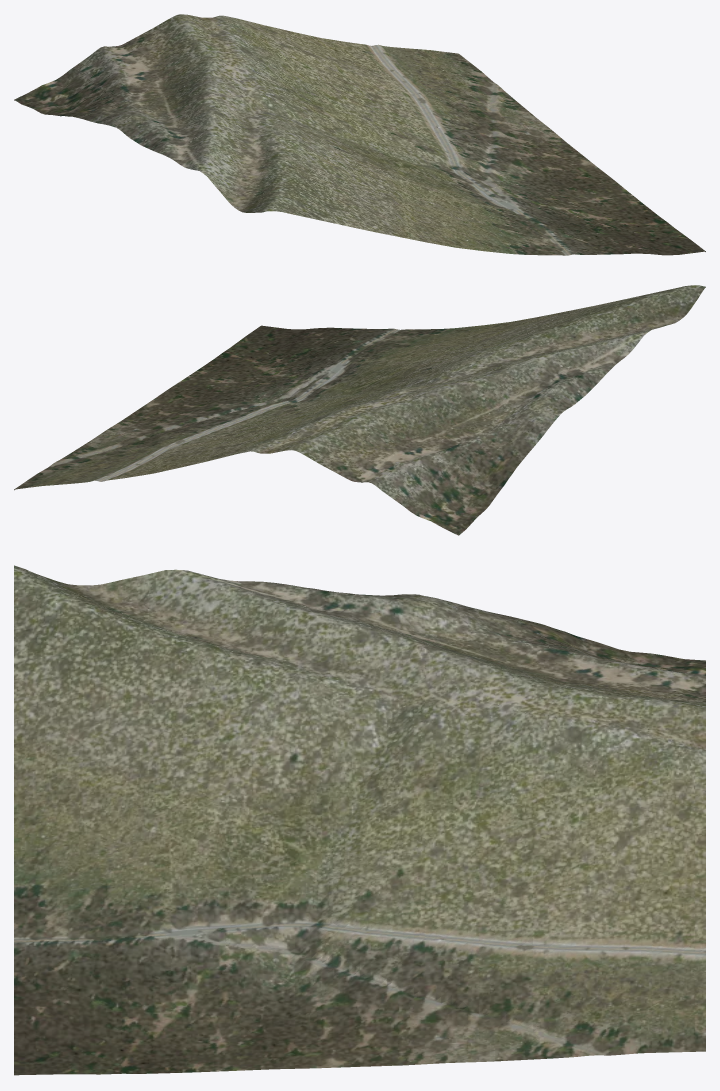
3 views of the same model, one above another, from view 1: azimuth 30°, elevation 25°; view 2: azimuth 150°, elevation 25°; view 3: azimuth 270°, elevation 25° (orthographic). The views are drawn at different scales.
Bounding box in the file's own units: 500 × 159 × 481.
Materials: 1 (1 with a texture image).
